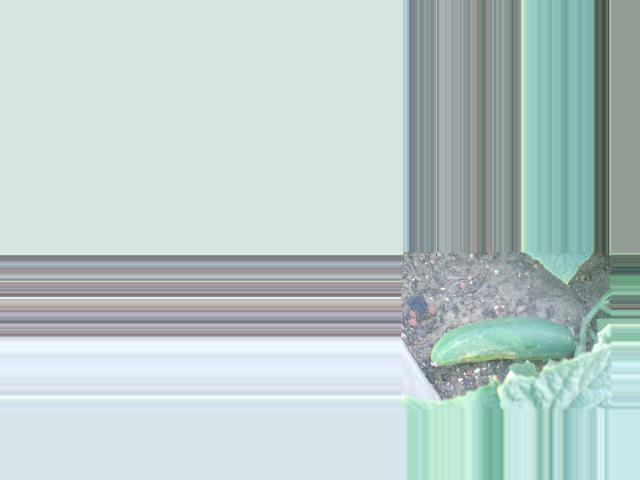cucumber: (430, 317, 573, 367)
